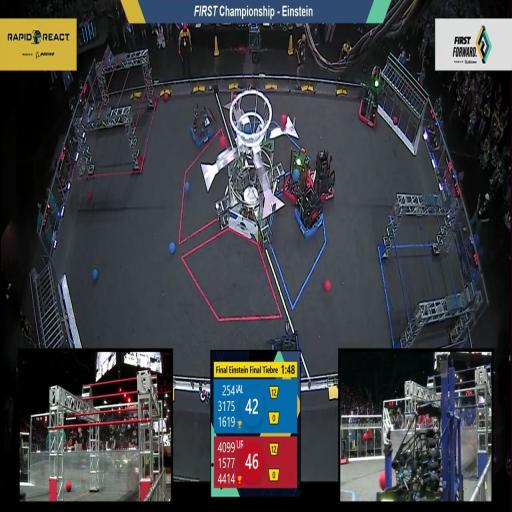robot: (380, 356, 463, 502), (308, 147, 336, 204), (295, 184, 323, 239), (283, 146, 308, 204), (189, 106, 220, 145), (358, 90, 380, 127), (268, 330, 300, 352)
